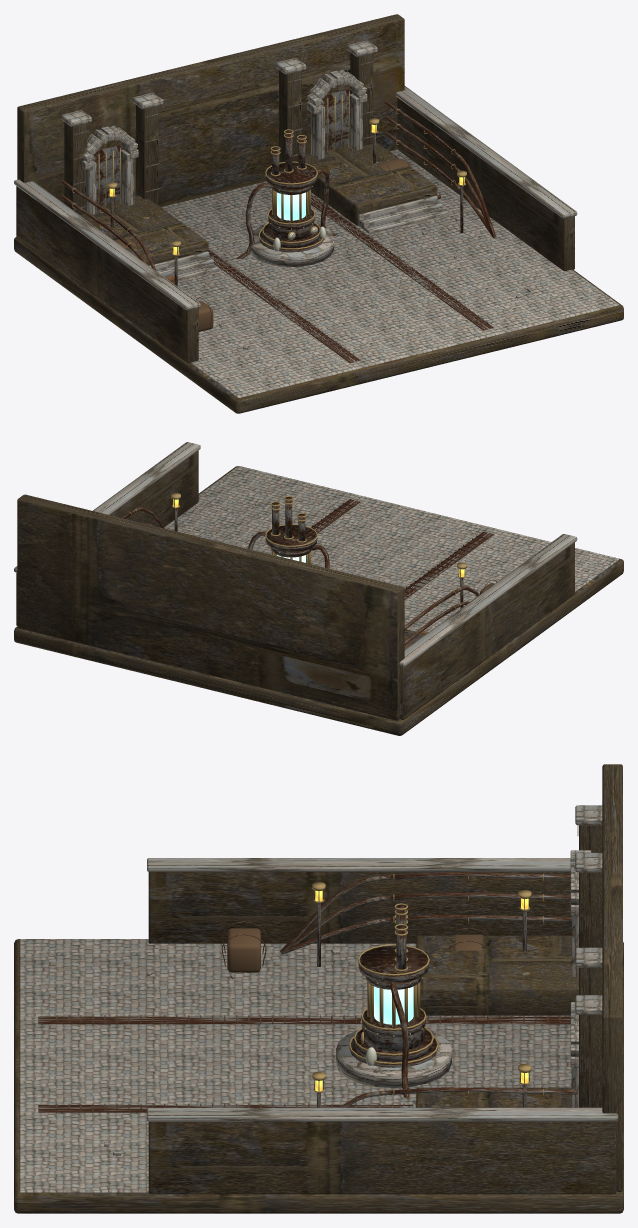
The model's file is ash-quay.glb.
3 renders of one model, top to bottom at view 1: azimuth 30°, elevation 25°; view 2: azimuth 150°, elevation 25°; view 3: azimuth 270°, elevation 25°, orthographic. The views are drawn at different scales.
Parts seen in each view (by area): view 1: Ash Quay / masonry, Ash Quay / worn paving, Black iron, Oxidized brass, Iona / worn leather, Pale pressure; view 2: Ash Quay / masonry, Ash Quay / worn paving, Black iron, Oxidized brass; view 3: Ash Quay / masonry, Ash Quay / worn paving, Black iron, Oxidized brass, Iona / worn leather, Pale pressure.
Part boxes in pixels (x1,y1,x2,y2): Ash Quay / masonry: [14, 14, 623, 413]; Ash Quay / worn paving: [14, 40, 618, 397]; Black iron: [60, 61, 496, 363]; Oxidized brass: [72, 93, 466, 255]; Iona / worn leather: [116, 158, 411, 331]; Pale pressure: [277, 192, 305, 220]; Ash Quay / masonry: [14, 450, 623, 735]; Ash Quay / worn paving: [14, 442, 618, 720]; Black iron: [121, 497, 496, 644]; Oxidized brass: [127, 493, 466, 630]; Ash Quay / masonry: [14, 764, 623, 1213]; Ash Quay / worn paving: [19, 805, 618, 1192]; Black iron: [38, 825, 578, 1112]; Oxidized brass: [312, 874, 543, 1095]; Iona / worn leather: [227, 928, 483, 972]; Pale pressure: [374, 986, 413, 1024].
Bounding box in the file's own units: 16.42 × 5.8 × 16.3.
Materials: 9 (4 with a texture image).
